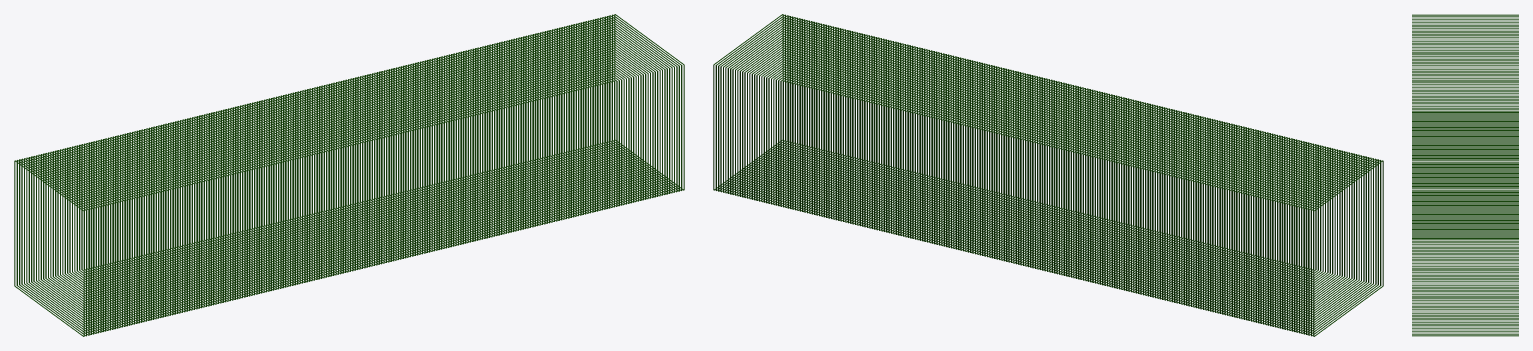
Rendered from tunnel_4.glb.
The picture shows the model from 3 angles, left to right: view 1: azimuth 30°, elevation 25°; view 2: azimuth 150°, elevation 25°; view 3: azimuth 270°, elevation 25°; orthographic projection. The views are drawn at different scales.
Parts seen in each view (by area): view 1: Cube; view 2: Cube; view 3: Cube.
Part boxes in pixels (x1,y1,x2,y2): Cube: (14, 14, 684, 336); Cube: (713, 14, 1383, 336); Cube: (1412, 14, 1518, 336).
Bounding box in the file's own units: 10.02 × 2 × 2.
